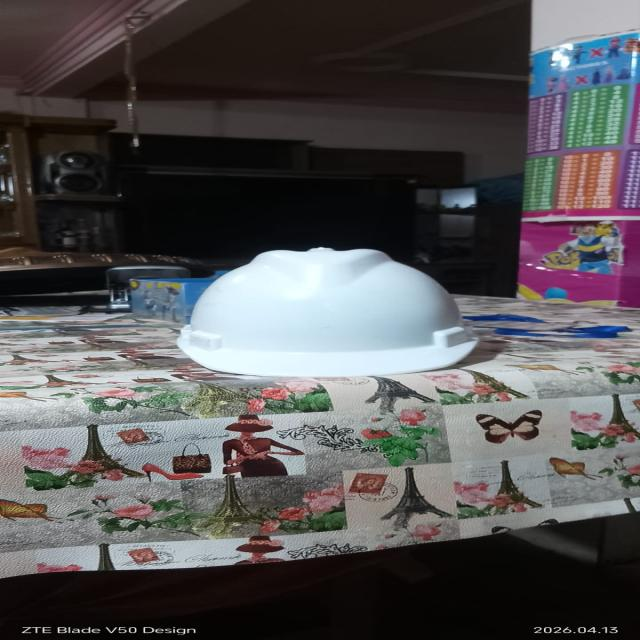casco: (142, 230, 534, 380)
